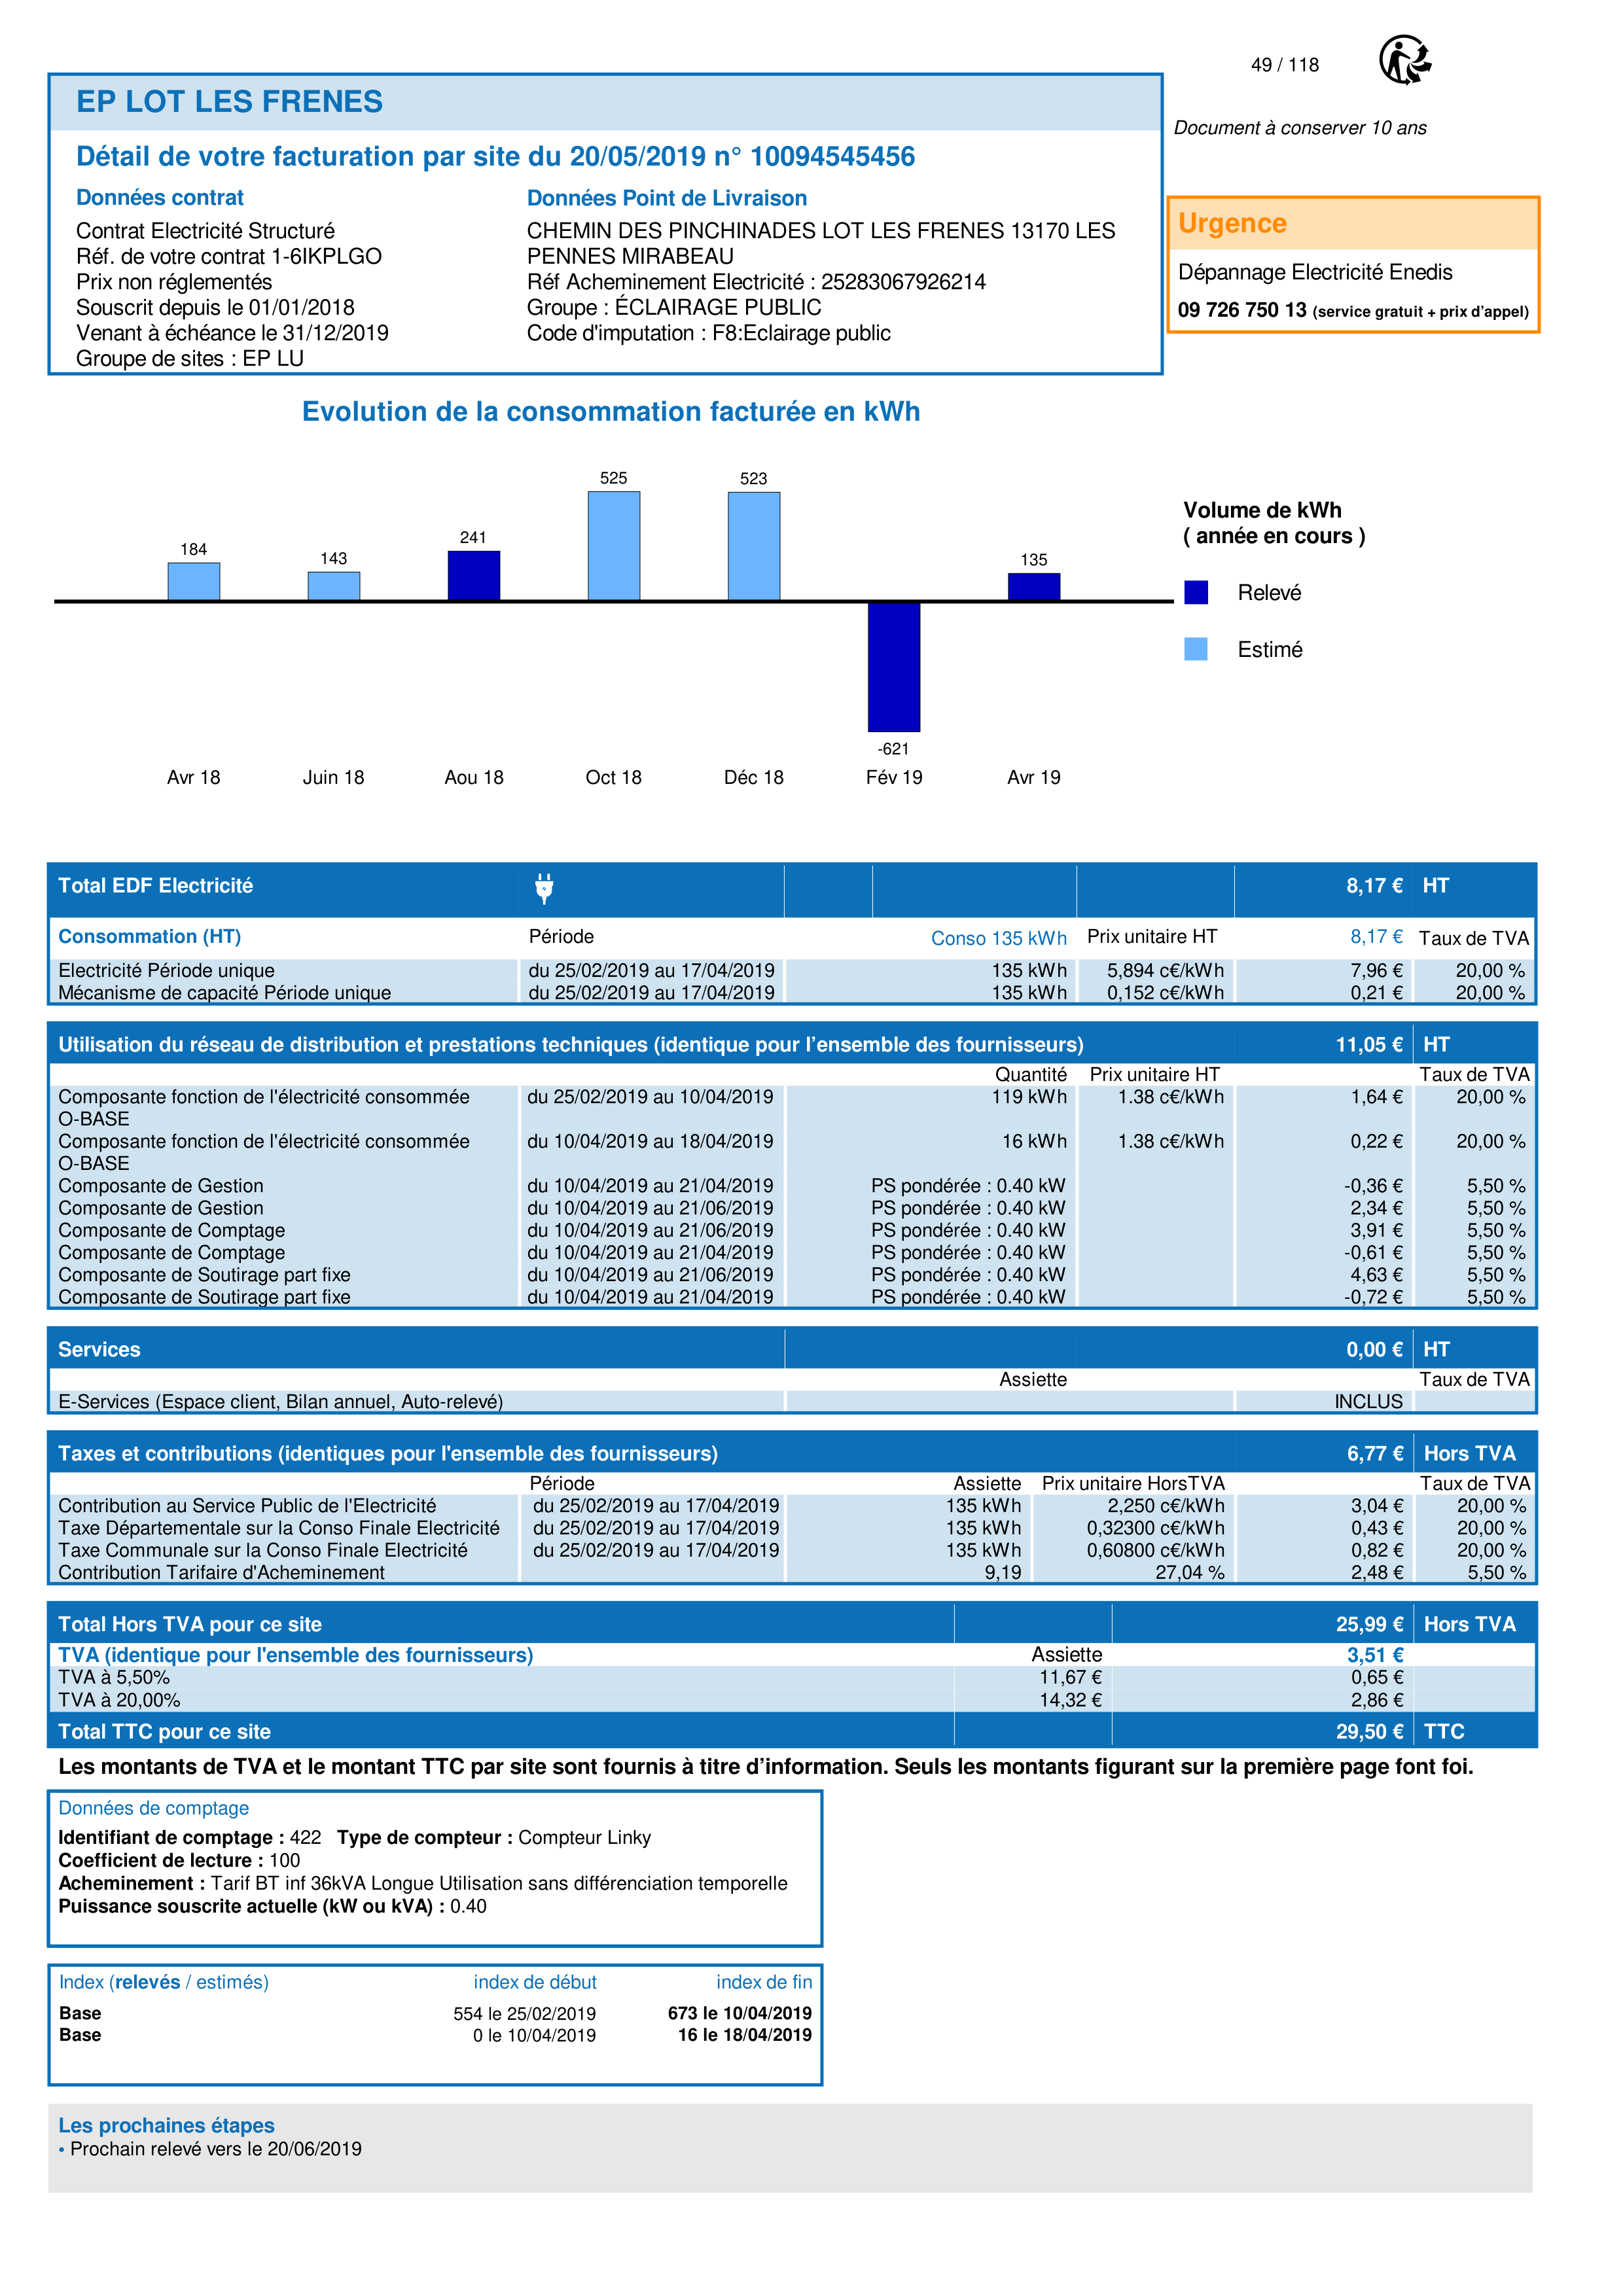area: (47, 1963, 821, 2088)
type_indicator: (47, 1964, 277, 2002)
